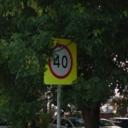speed_limit_40: (44, 43, 76, 79)
